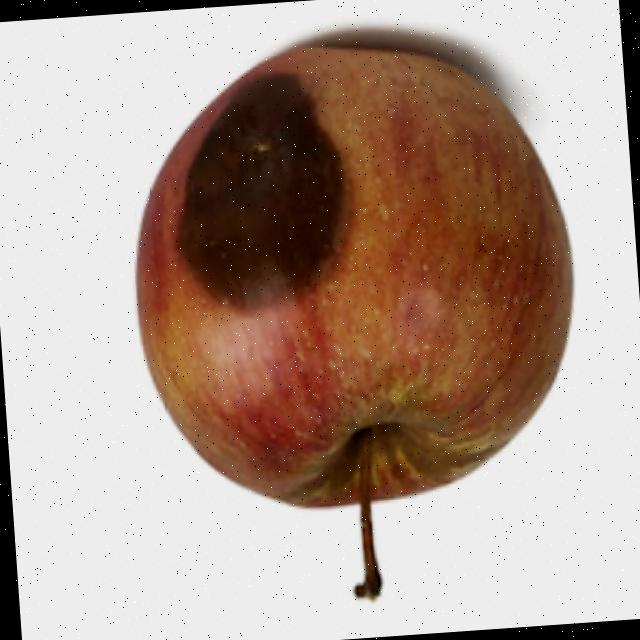Rotten: (115, 23, 598, 526)
